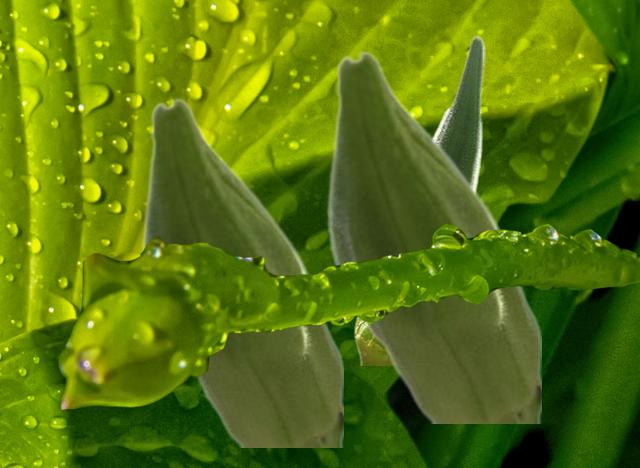okra: (326, 50, 540, 422), (141, 97, 342, 446), (353, 34, 484, 364)
